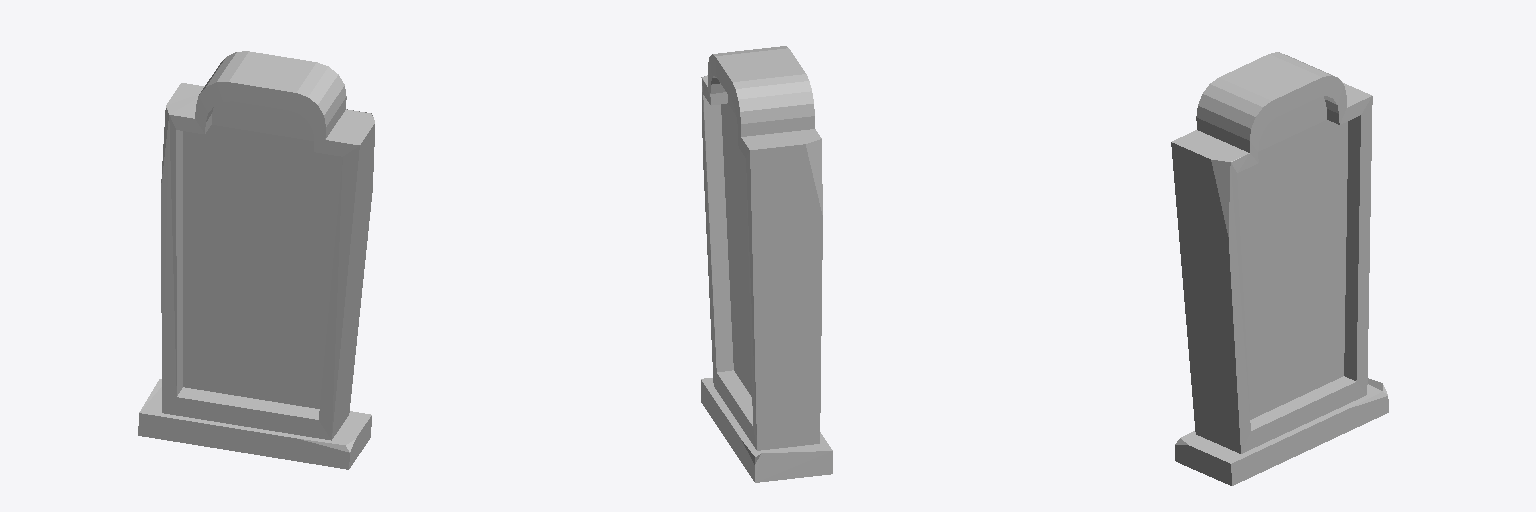
Rendered from Gravestone 1.obj.
3 renders of one model, left to right at view 1: azimuth 30°, elevation 25°; view 2: azimuth 150°, elevation 25°; view 3: azimuth 270°, elevation 25°, orthographic.
Parts seen in each view (by area): view 1: Gravestone_2; view 2: Gravestone_2; view 3: Gravestone_2.
Boxes of the visible parts, <box> form: Gravestone_2: <box>138,51,374,469</box>; Gravestone_2: <box>701,46,832,482</box>; Gravestone_2: <box>1171,52,1388,485</box>.
Size of the model in its own units: 0.601 by 1.16 by 0.6182.